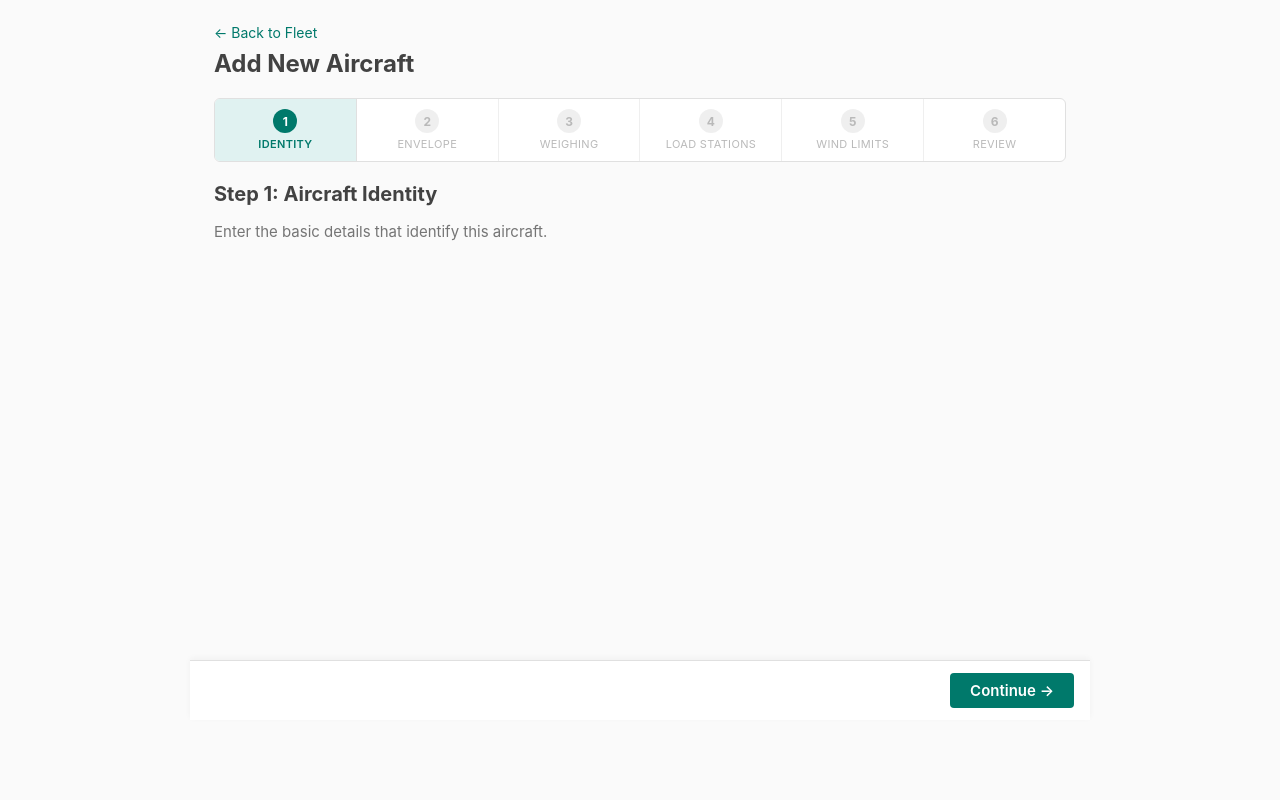
Test: AircraftProfileWizardView — post-save chooser & exit modal › shows the in-app exit modal (never native confirm) when leaving with unsaved changes
Click the button with class "btn-back": (266, 32) [214,24,317,41]
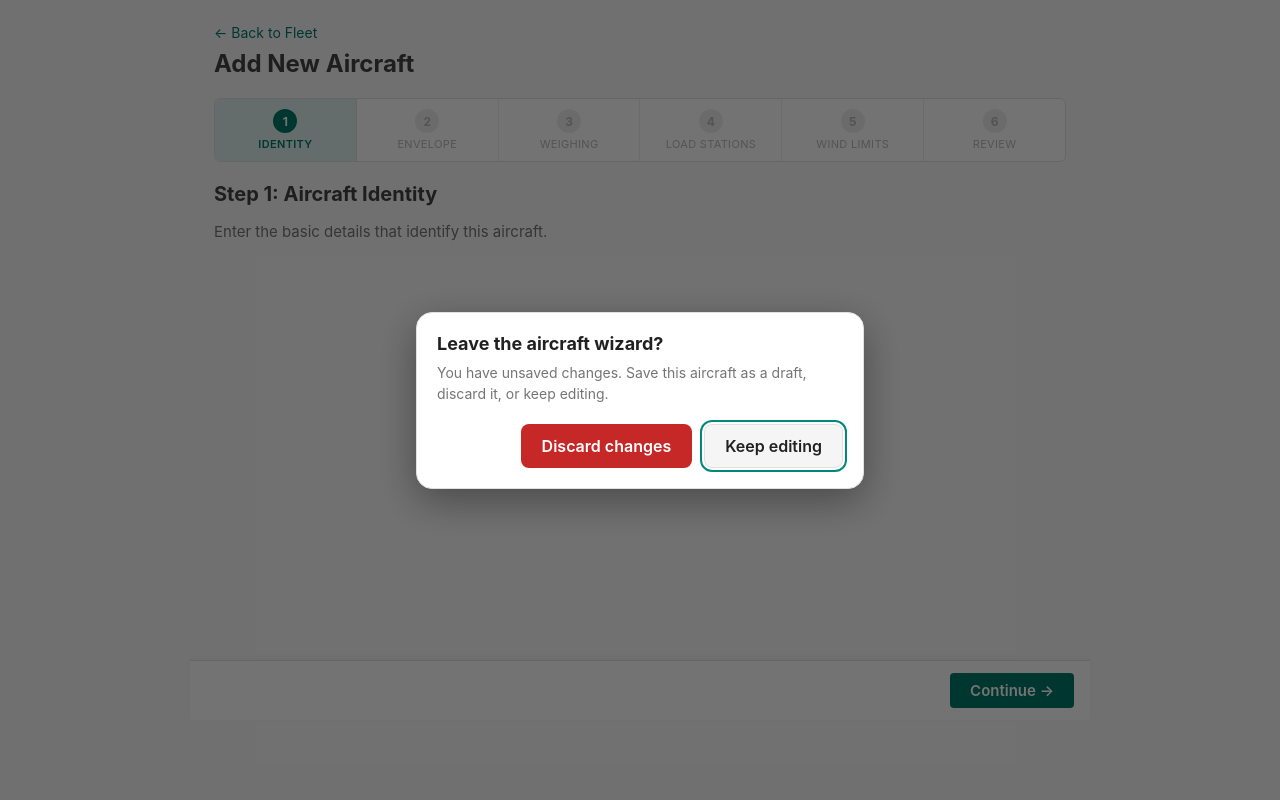
Now the heading with class "action-choice__title" shows "Leave the aircraft wizard", box [437,332,663,354]
